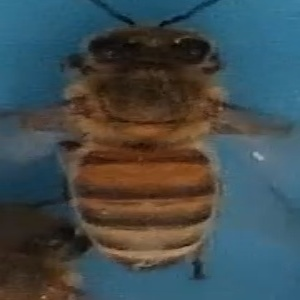bee: (62, 11, 297, 279)
